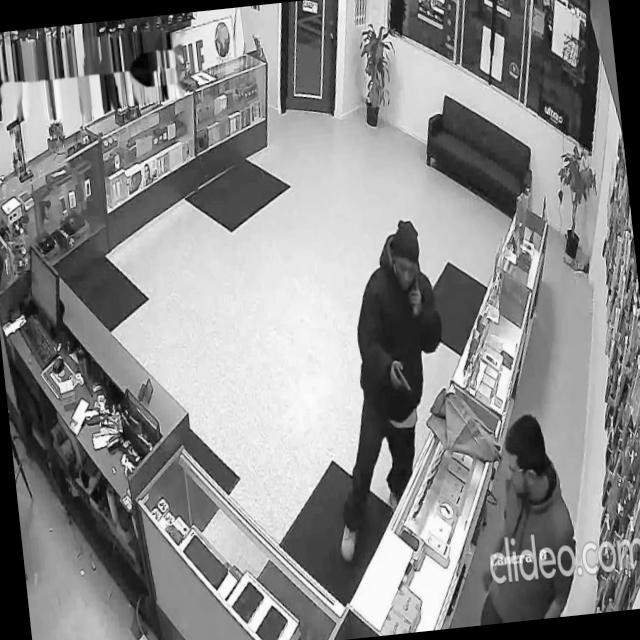gun: (392, 359, 413, 396)
person: (457, 407, 583, 625)
person with a gun: (307, 217, 467, 566)
